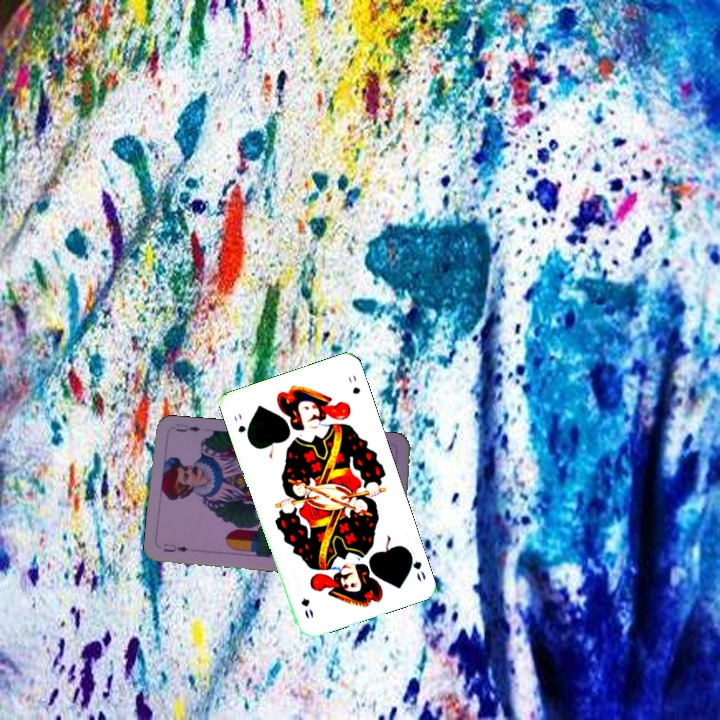EU: (159, 539, 191, 555)
GO: (404, 546, 428, 584), (230, 409, 252, 444)
